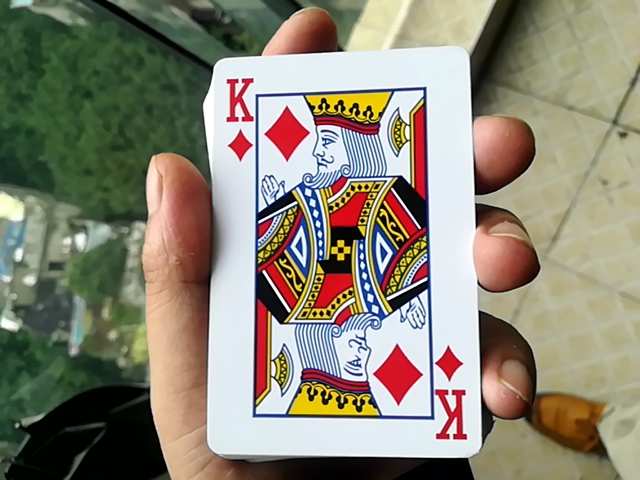fk k: (193, 35, 473, 458)
